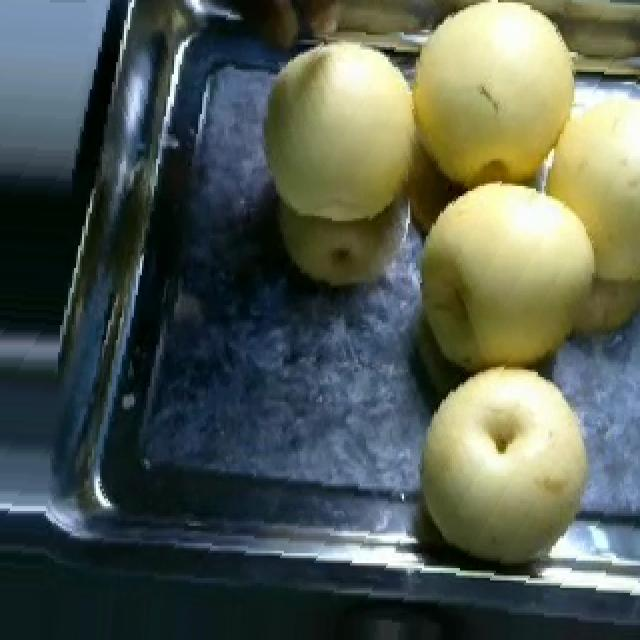Fruit: (388, 162, 634, 404), (392, 0, 604, 213), (408, 352, 604, 571), (236, 27, 422, 248)
